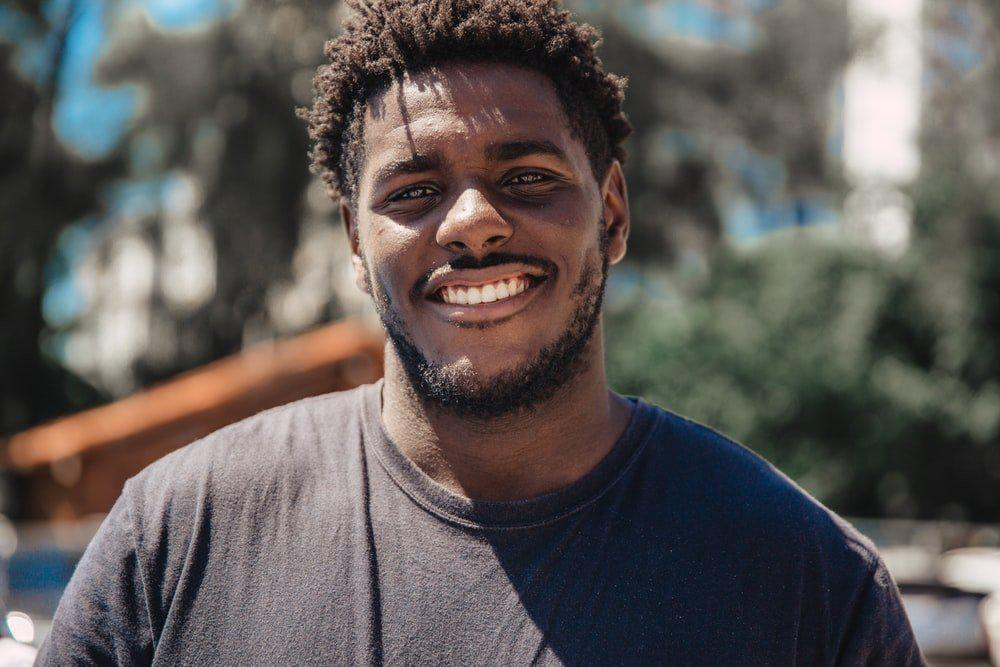Sober: (361, 83, 592, 377)
